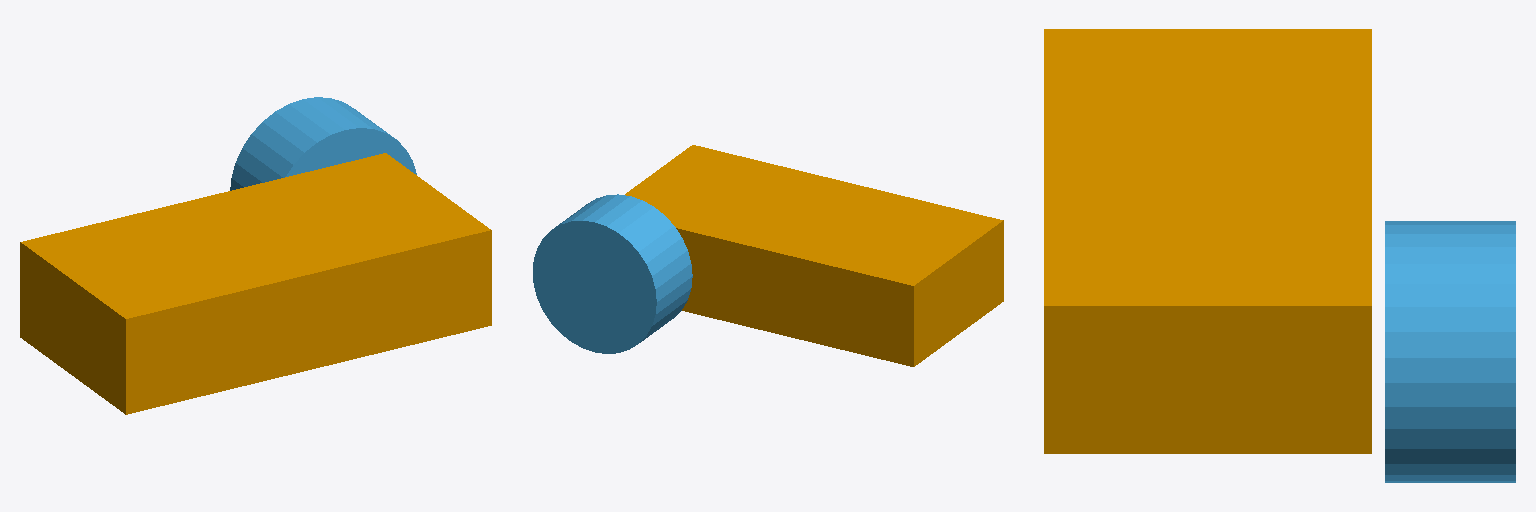
robot.urdf — my_robot:
<?xml version ="1.0"?>
<robot name="my_robot">
    <link name="base_link">
        <visual>
            <geometry>
                <box size="1 0.5 0.25"/>
            </geometry>
        </visual>
    </link>
    <link name="left_wheel">
        <visual>
            <origin xyz = "0 0.12 0"  rpy = "1.5708 0.0 0.0"/>
            <geometry>
                <cylinder length ="0.2" radius= "0.2"/>
            </geometry>
        </visual>
    </link>
    <joint name ="left_wheel_joint" type= "continuous">
        <origin xyz = "0.40 0.25 0"/>
        <parent link ="base_link"/>
        <child link = "left_wheel"/>
        <axis xyz = "0.0 1.0 0.0"/>
    </joint>
        
</robot>

--- Facts derived from the render (not from the file) ---
The picture shows the robot from 3 angles, left to right: view 1: azimuth 30°, elevation 25°; view 2: azimuth 150°, elevation 25°; view 3: azimuth 270°, elevation 25°; orthographic projection.
Model my_robot with 2 links and 1 joints (1 continuous), rooted at base_link, posed every joint at zero.
Links seen in each view (by area): view 1: base_link, left_wheel; view 2: base_link, left_wheel; view 3: base_link, left_wheel.
Link boxes in pixels (x1=…): base_link: x1=20, y1=153, x2=491, y2=414; left_wheel: x1=230, y1=97, x2=416, y2=190; base_link: x1=625, y1=145, x2=1003, y2=366; left_wheel: x1=533, y1=194, x2=692, y2=353; base_link: x1=1044, y1=29, x2=1371, y2=453; left_wheel: x1=1385, y1=221, x2=1515, y2=482.
Bounding box of the posed robot: 1.1 × 0.72 × 0.4 m (x, y, z).
Geometry: primitives only (box / cylinder / sphere), no mesh files.